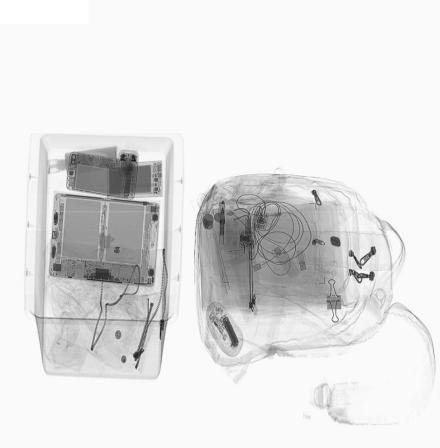Powerbank: (105, 160, 161, 198)
